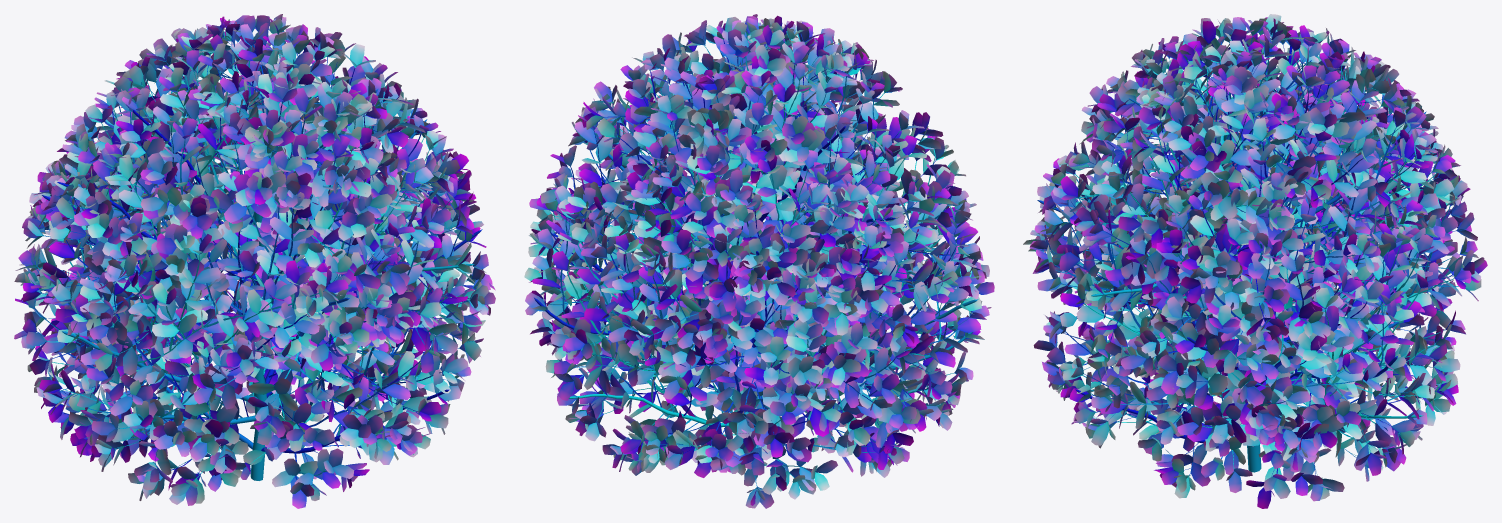
File: Boxwood_wfypfa3ha_Low_wfypfa3ha_VarH_LOD0.fbx
3 views of the same model, side by side, from view 1: azimuth 30°, elevation 25°; view 2: azimuth 150°, elevation 25°; view 3: azimuth 270°, elevation 25° (orthographic). The views are drawn at different scales.
Parts seen in each view (by area): view 1: _grzw_VarH_LOD2; view 2: _grzw_VarH_LOD2; view 3: _grzw_VarH_LOD2.
Part boxes in pixels (<box>): _grzw_VarH_LOD2: <box>14,14,495,508</box>; _grzw_VarH_LOD2: <box>524,14,994,508</box>; _grzw_VarH_LOD2: <box>1023,14,1487,508</box>.
Size of the model in its own units: 48.62 by 49.36 by 47.09.
